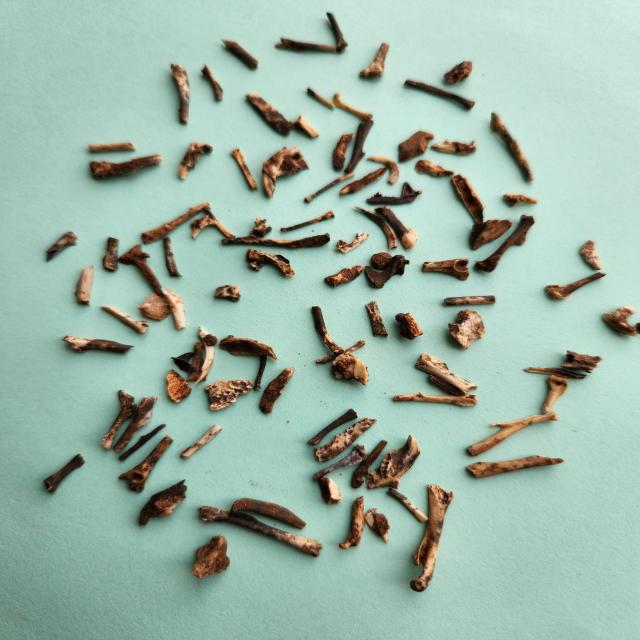fossil: (195, 504, 326, 560), (406, 482, 460, 594), (466, 410, 564, 458), (472, 213, 538, 275), (486, 110, 538, 184), (115, 434, 178, 495), (364, 431, 424, 492), (140, 201, 212, 248), (312, 415, 381, 464), (411, 350, 481, 396), (111, 393, 162, 455), (226, 494, 309, 531), (115, 242, 167, 300), (259, 144, 312, 200), (462, 454, 569, 481), (242, 88, 296, 140), (137, 478, 192, 529), (398, 77, 478, 112), (99, 387, 140, 452), (85, 151, 165, 184), (310, 441, 374, 482), (304, 407, 364, 448), (372, 203, 422, 252), (39, 451, 91, 496), (118, 420, 172, 463), (339, 119, 380, 175), (218, 230, 332, 250), (256, 365, 299, 417), (189, 532, 235, 580), (541, 271, 609, 303), (352, 204, 398, 251), (449, 173, 490, 225), (350, 436, 389, 490), (199, 377, 257, 413), (166, 61, 196, 129), (309, 304, 349, 354), (218, 331, 282, 362), (58, 333, 137, 358), (361, 254, 414, 291), (444, 307, 488, 351), (364, 179, 428, 208), (466, 215, 516, 252), (244, 246, 298, 280), (179, 422, 226, 461), (336, 493, 367, 552), (383, 487, 432, 524), (175, 140, 217, 183), (302, 172, 356, 205), (389, 391, 488, 409), (42, 226, 86, 266), (336, 166, 391, 198), (188, 206, 238, 241), (326, 350, 372, 388), (191, 322, 217, 389), (100, 302, 150, 336), (218, 36, 262, 74), (418, 252, 472, 282), (278, 208, 338, 234), (313, 338, 368, 366), (330, 89, 376, 122), (599, 302, 640, 339), (357, 41, 393, 82), (395, 129, 437, 164), (158, 285, 189, 332), (229, 146, 259, 193), (557, 346, 607, 374), (272, 36, 344, 55), (135, 289, 174, 324), (71, 262, 99, 310), (518, 364, 592, 382), (360, 506, 394, 545), (198, 62, 228, 106), (329, 131, 358, 175), (363, 154, 401, 187), (160, 232, 186, 280), (538, 374, 570, 413), (324, 10, 352, 54), (320, 264, 364, 292), (423, 372, 468, 399), (392, 309, 428, 342), (185, 338, 210, 384), (428, 136, 479, 158), (363, 299, 391, 339), (412, 156, 458, 180), (165, 368, 194, 405), (333, 229, 371, 256), (576, 238, 606, 272), (440, 58, 476, 86), (83, 140, 144, 156), (100, 234, 124, 274), (441, 292, 500, 308), (315, 475, 345, 506), (303, 86, 337, 112), (292, 114, 322, 141), (500, 190, 540, 210), (252, 351, 270, 392), (210, 282, 243, 304), (247, 214, 276, 239), (168, 350, 196, 375), (368, 251, 396, 271)
